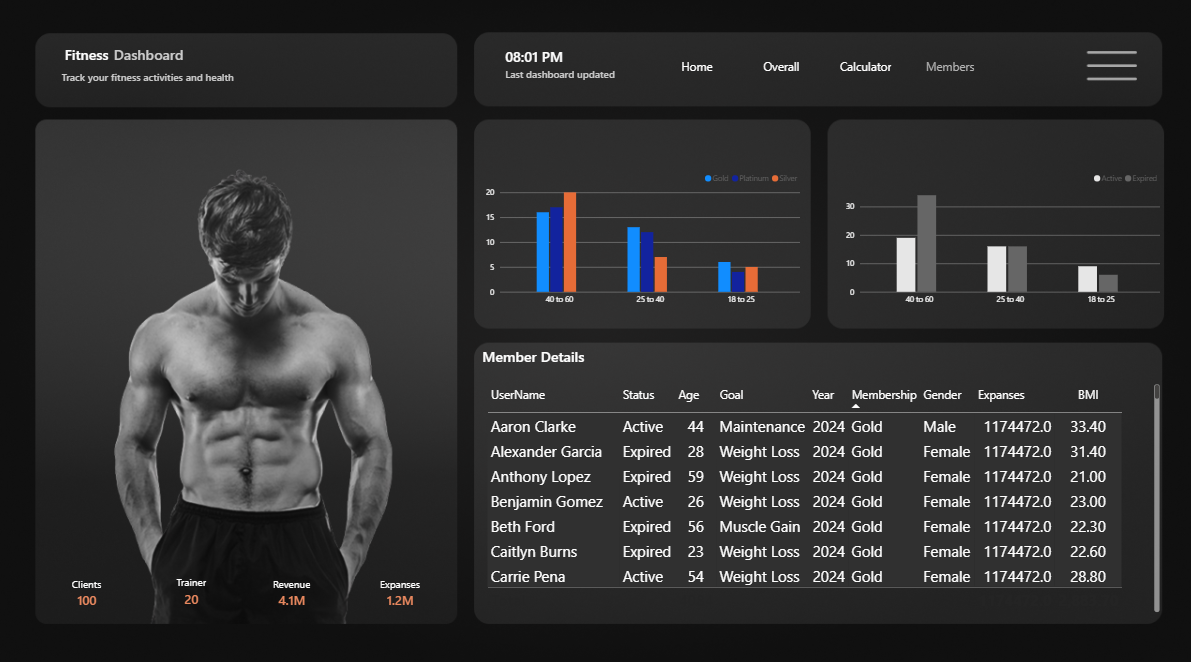

This screenshot's page, from the dashboard's own definition file:
{"tool":"powerbi","page":{"name":"Members","canvas":[1920,1080],"ordinal":3},"visuals":[{"type":"shape","box":[88.6,77.1,114,37],"z":0},{"type":"shape","box":[171.9,77.8,144.3,37.1],"z":1},{"type":"shape","box":[803.5,61.5,114,74.2],"z":2},{"type":"shape","box":[803.5,108.6,197.3,38],"z":3},{"type":"shape","box":[92.9,114.3,301.4,37.1],"z":4},{"type":"pageNavigator","box":[1057.5,77.5,534,78],"z":5},{"type":"image","box":[1726.4,65.1,123.1,101.3],"z":6},{"type":"cardVisual","fields":{"Data":["Users.Users_Count"]},"box":[82.4,928,126.7,60],"z":7},{"type":"cardVisual","fields":{"Data":["Count(Users.Trainer Name)"]},"box":[242.4,926.9,141.1,60],"z":8},{"type":"cardVisual","fields":{"Data":["Users.Revenue"]},"box":[410.2,928,126.7,60],"z":9},{"type":"cardVisual","fields":{"Data":["Users.// Total ExpensesExpanses"]},"box":[576.9,928,141.1,60],"z":10},{"type":"tableEx","fields":{"Values":["Users.UserName","Users.Status","Sum(Users.Age)","Users.Goal","Users.JoinDate.Variation.Date Hierarchy.Year","Users.Membership","Users.Gender","Users.Expanses","Sum(Users.BMI)"]},"box":[770,610,1108.3,395],"z":11},{"type":"shape","box":[683.3,560,351.7,36.7],"z":12},{"type":"clusteredColumnChart","fields":{"Category":["Users.Age Category"],"Series":["Users.Membership"],"Y":["Users.Users_Count"]},"box":[768.9,265.6,534.4,251.1],"z":13},{"type":"clusteredColumnChart","fields":{"Category":["Users.Age Category"],"Series":["Users.Status"],"Y":["Users.Users_Count"]},"box":[1344.4,265.6,534.4,251.1],"z":14}]}

Visuals, with their boxes in screenshot pixels (x1, y1, x2, y2), scaled from the page's 1920x1080 canvas onto the 1191x662 screenshot:
shape: bbox=(55, 47, 126, 70)
shape: bbox=(107, 48, 196, 70)
shape: bbox=(498, 38, 569, 83)
shape: bbox=(498, 67, 621, 90)
shape: bbox=(58, 70, 245, 93)
pageNavigator: bbox=(656, 48, 987, 95)
image: bbox=(1071, 40, 1147, 102)
cardVisual - Users.Users_Count: bbox=(51, 569, 130, 606)
cardVisual - Count(Users.Trainer Name): bbox=(150, 568, 238, 605)
cardVisual - Users.Revenue: bbox=(254, 569, 333, 606)
cardVisual - Users.// Total ExpensesExpanses: bbox=(358, 569, 445, 606)
tableEx - Users.UserName x Users.Status: bbox=(478, 374, 1165, 616)
shape: bbox=(424, 343, 642, 366)
clusteredColumnChart - Users.Age Category x Users.Membership: bbox=(477, 163, 808, 317)
clusteredColumnChart - Users.Age Category x Users.Status: bbox=(834, 163, 1165, 317)
